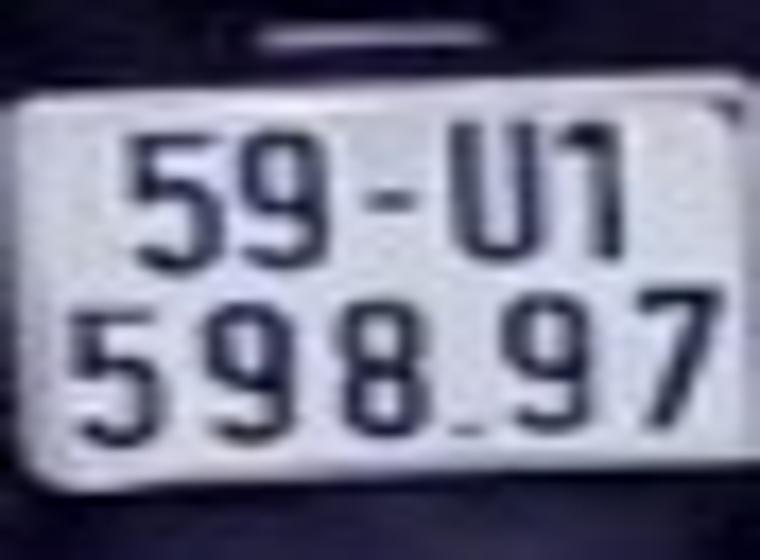-: (364, 187, 410, 213)
.: (453, 423, 479, 435)
1: (562, 119, 622, 258)
5: (131, 131, 224, 275), (72, 308, 159, 446)
7: (638, 284, 720, 431)
8: (336, 301, 427, 437)
9: (202, 302, 293, 442), (239, 128, 328, 271), (502, 288, 585, 432)
U: (447, 119, 538, 263)
